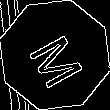M_NE: (22, 23, 88, 87)
